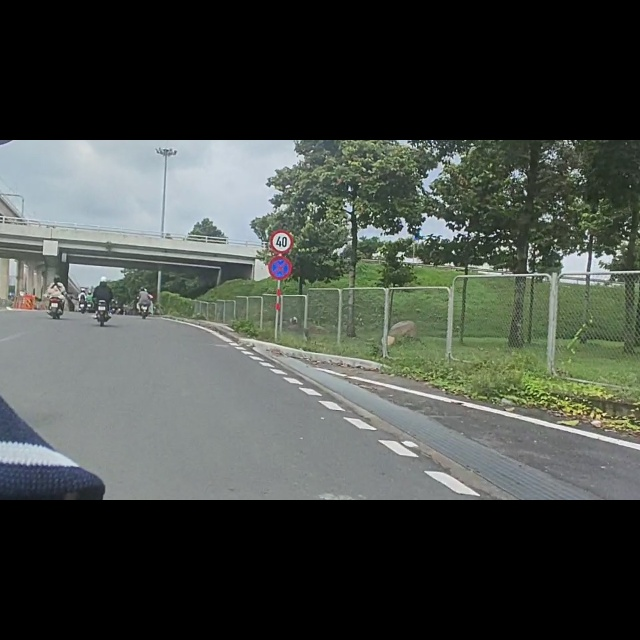bien_cam: (269, 206, 292, 249), (271, 159, 294, 201)
